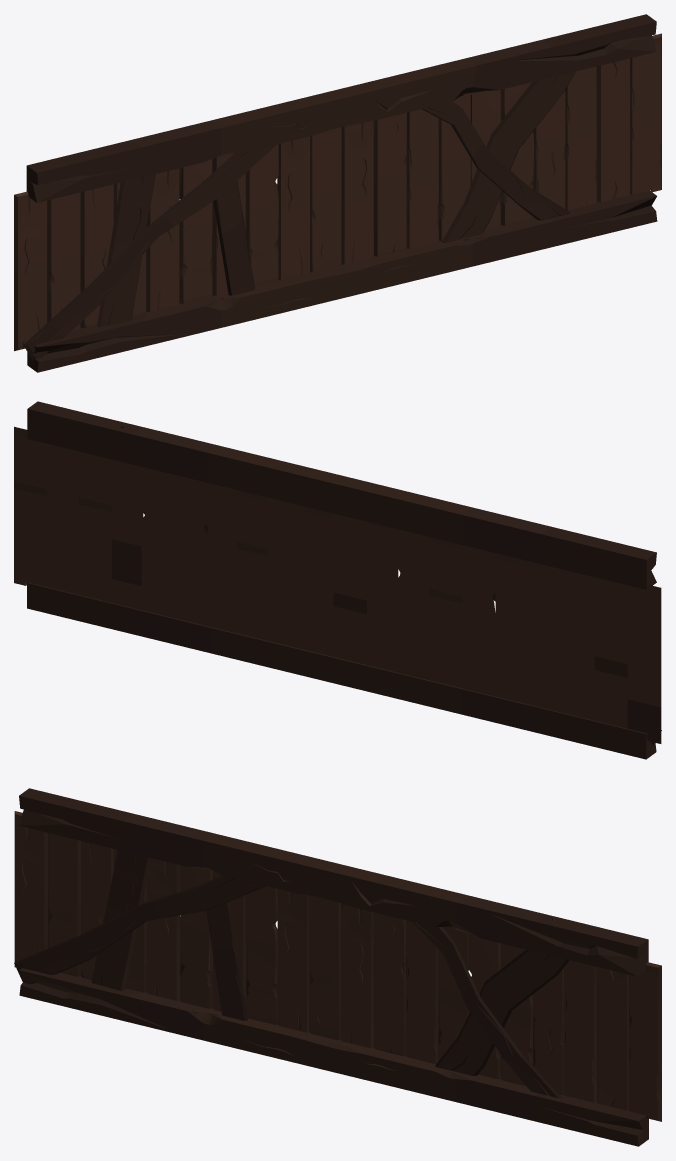
Rendered from SM_frontPanel02.fbx.
The picture shows the model from 3 angles, top to bottom: view 1: azimuth 30°, elevation 25°; view 2: azimuth 150°, elevation 25°; view 3: azimuth 330°, elevation 25°; orthographic projection.
Visible parts, largest first — view 1: SM_frontPanel02; view 2: SM_frontPanel02; view 3: SM_frontPanel02.
Boxes of the visible parts, x1,y1,x2,y2 form: SM_frontPanel02: (14,14,661,372); SM_frontPanel02: (14,401,661,759); SM_frontPanel02: (14,788,661,1146).
Size of the model in its own units: 375 by 112 by 10.31.
